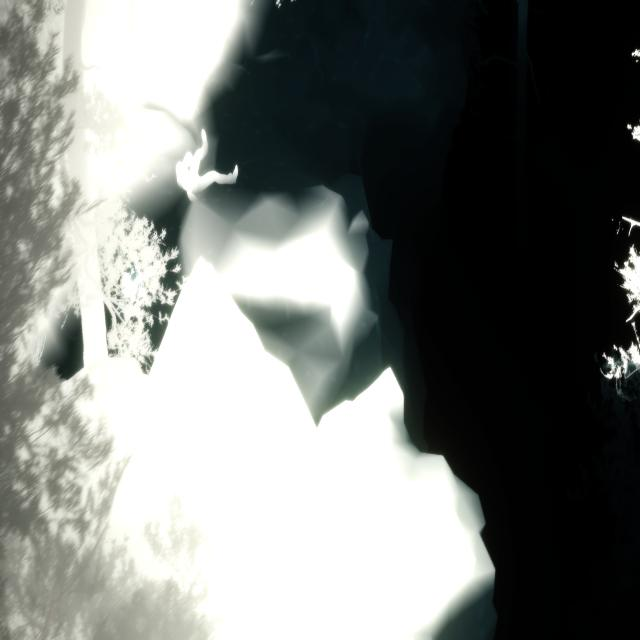Human: (175, 124, 247, 202)
